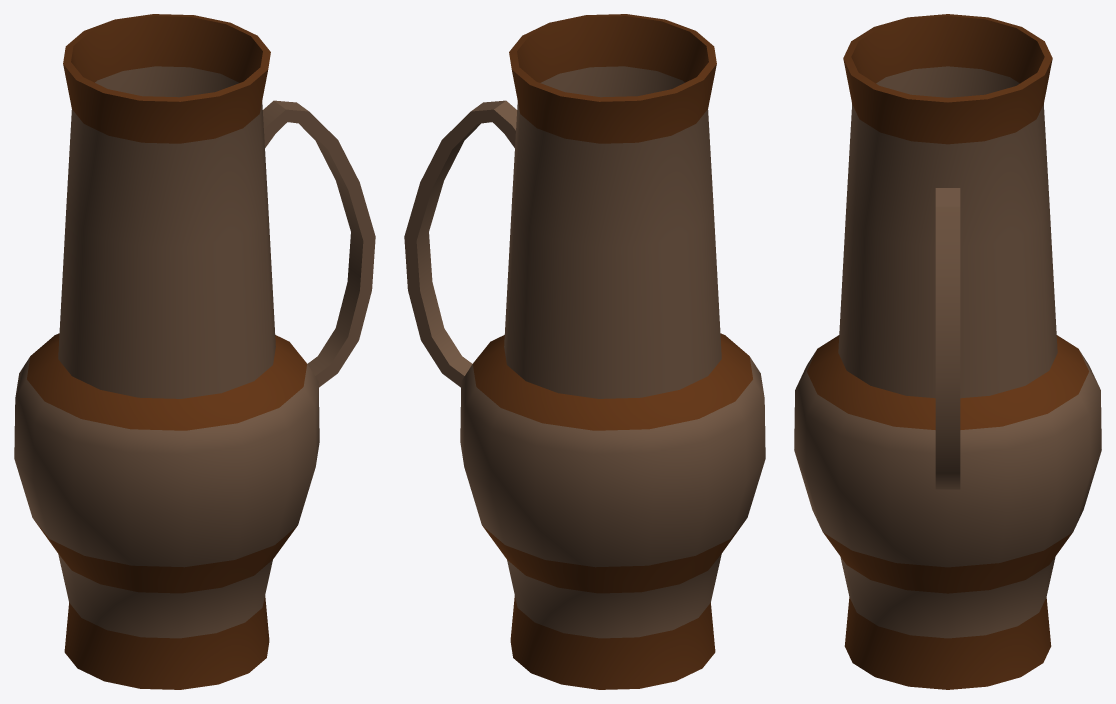
Rendered from comlek_3_saglam.fbx.
3 renders of one model, left to right at view 1: azimuth 30°, elevation 25°; view 2: azimuth 150°, elevation 25°; view 3: azimuth 270°, elevation 25°, orthographic.
Parts seen in each view (by area): view 1: comlek_3_saglam; view 2: comlek_3_saglam; view 3: comlek_3_saglam.
Boxes of the visible parts, bbox=[...] form: comlek_3_saglam: bbox=[14, 14, 375, 689]; comlek_3_saglam: bbox=[404, 14, 765, 689]; comlek_3_saglam: bbox=[794, 14, 1101, 689].
Size of the model in its own units: 0.4762 by 0.7995 by 0.3782.
